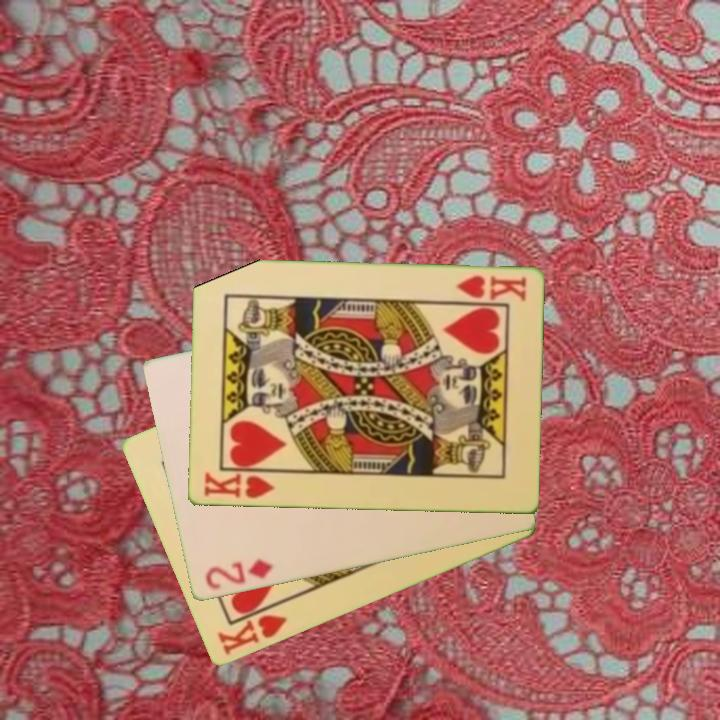2d: (201, 555, 276, 593)
Kh: (213, 599, 290, 659), (200, 468, 281, 502), (452, 272, 529, 305)
